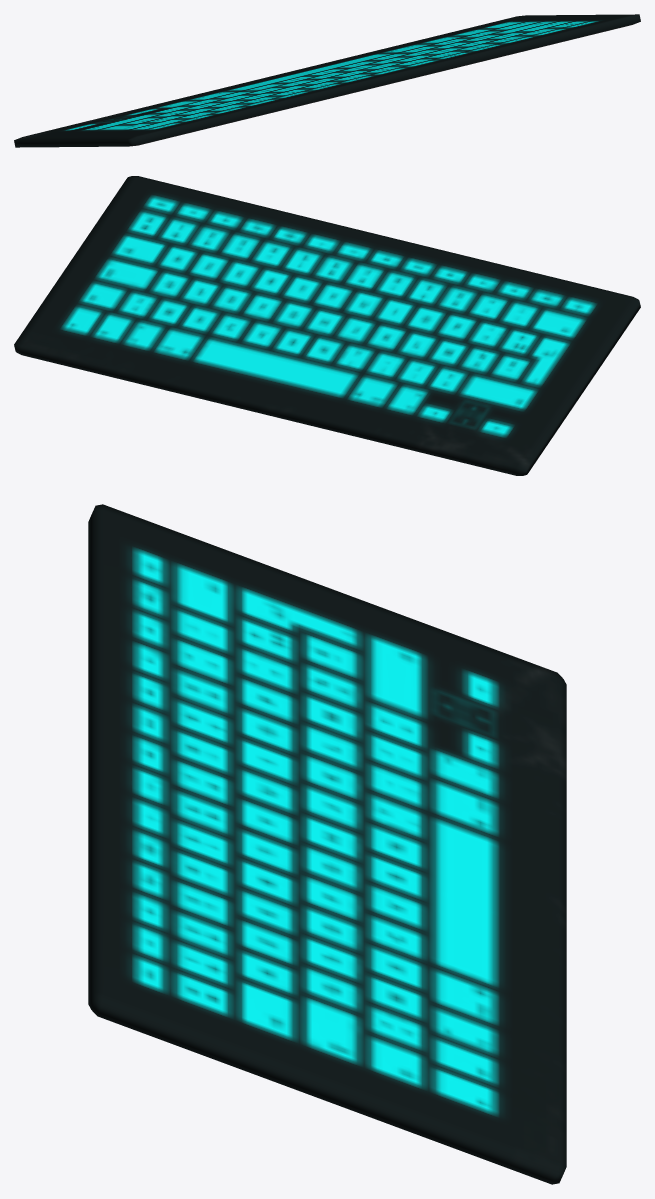
File: mesh_capsule_keyboard.fbx
3 renders of one model, top to bottom at view 1: azimuth 30°, elevation 25°; view 2: azimuth 150°, elevation 25°; view 3: azimuth 270°, elevation 25°, orthographic. The views are drawn at different scales.
Visible parts, largest first — view 1: mesh_capsule_keyboard; view 2: mesh_capsule_keyboard; view 3: mesh_capsule_keyboard.
Part boxes in pixels (<box>): mesh_capsule_keyboard: <box>14,14,640,147</box>; mesh_capsule_keyboard: <box>14,176,640,475</box>; mesh_capsule_keyboard: <box>88,504,566,1184</box>.
Bounding box in the file's own units: 0.9887 × 0.1729 × 0.3999.
